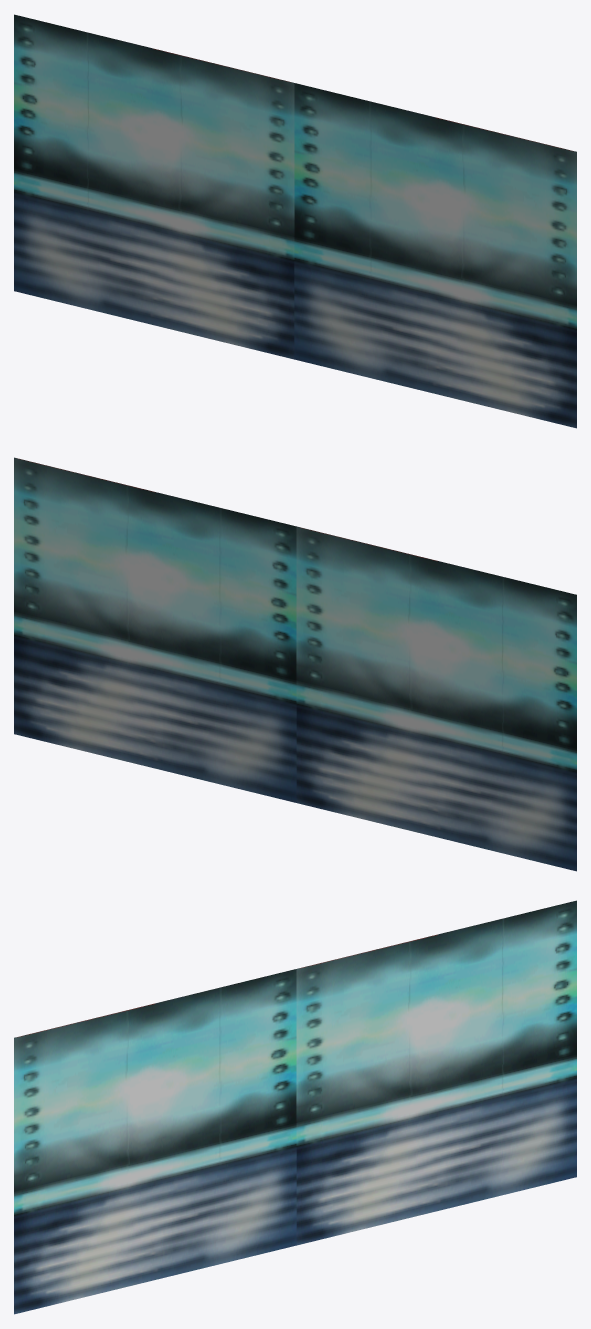
File: Polizei_Wand_K06_2564.glb
3 renders of one model, top to bottom at view 1: azimuth 30°, elevation 25°; view 2: azimuth 210°, elevation 25°; view 3: azimuth 270°, elevation 25°, orthographic.
Visible parts, largest first — view 1: pPlaneShape350; view 2: pPlaneShape350; view 3: pPlaneShape350.
Part boxes in pixels (<box>): pPlaneShape350: <box>14,14,576,428</box>; pPlaneShape350: <box>14,457,576,871</box>; pPlaneShape350: <box>14,900,576,1314</box>.
Bounding box in the file's own units: 0.4144 × 0.3891 × 0.7177.
Materials: 1 (1 with a texture image).
